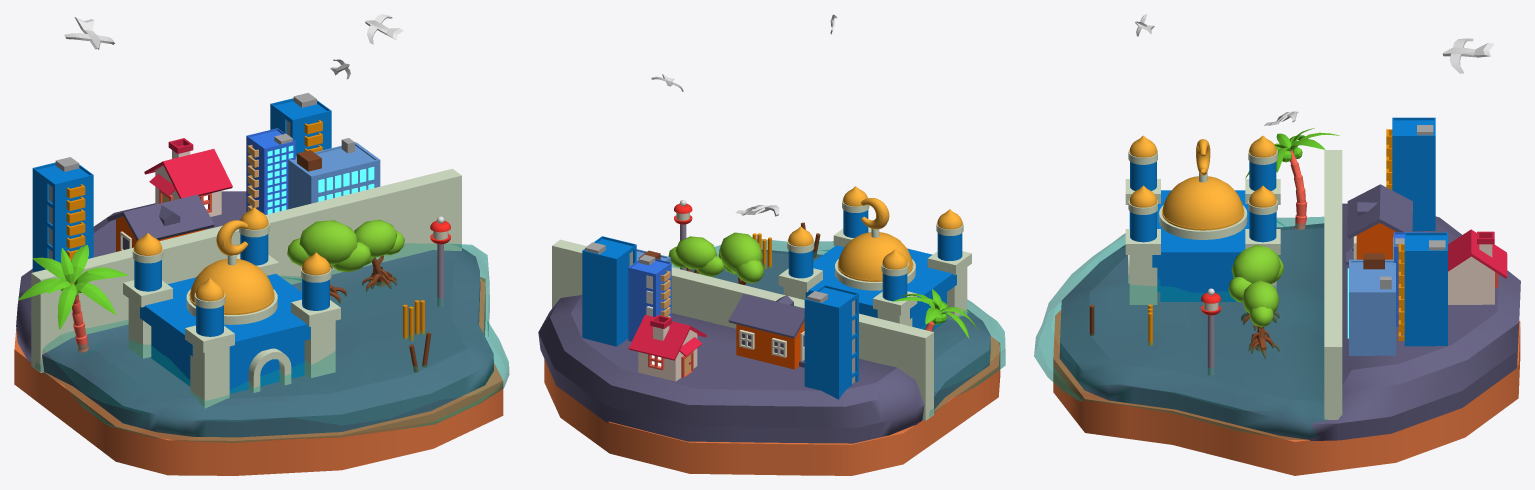
The picture shows the model from 3 angles, left to right: view 1: azimuth 30°, elevation 25°; view 2: azimuth 150°, elevation 25°; view 3: azimuth 270°, elevation 25°; orthographic projection. The views are drawn at different scales.
Visible parts, largest first — view 1: Plane.022, Plane.015, Plane.016, Plane.007, Cube.042, Cube.043, Cube.010, Cube.005, Cylinder.012, Plane.006, Cylinder.010, Cube.076 (+19 smaller); view 2: Plane.015, Plane.016, Plane.007, Plane.022, Cube.010, Cube.025, Cube.043, Cube.042, Cylinder.012, Cylinder.010, Cube.076, Cube.022 (+11 smaller); view 3: Plane.015, Plane.022, Plane.016, Cube.042, Plane.007, Cube.025, Cube.005, Cube.010, Cylinder.010, Cube.043, Cylinder.012, Cube.076 (+12 smaller).
Boxes of the visible parts, x1,y1,x2,y2 form: Plane.022: [35, 243, 509, 442]; Plane.015: [16, 191, 493, 437]; Plane.016: [14, 277, 503, 475]; Plane.007: [31, 168, 461, 372]; Cube.042: [140, 273, 310, 393]; Cube.043: [123, 254, 340, 408]; Cube.010: [32, 162, 93, 271]; Cube.005: [288, 142, 380, 209]; Cylinder.012: [134, 234, 329, 336]; Plane.006: [18, 245, 127, 329]; Cylinder.010: [189, 259, 274, 314]; Cube.076: [107, 194, 214, 240]; Plane.015: [538, 249, 990, 443]; Plane.016: [544, 336, 1000, 475]; Plane.007: [552, 239, 933, 420]; Plane.022: [671, 239, 1005, 418]; Cube.010: [804, 285, 858, 399]; Cube.025: [582, 236, 636, 346]; Cube.043: [778, 228, 971, 326]; Cube.042: [805, 245, 956, 330]; Cylinder.012: [788, 210, 962, 301]; Cylinder.010: [837, 232, 913, 281]; Cube.076: [728, 294, 804, 338]; Cube.022: [628, 258, 671, 341]; Plane.015: [1059, 203, 1520, 440]; Plane.022: [1034, 216, 1326, 439]; Plane.016: [1053, 310, 1520, 475]; Cube.042: [1129, 190, 1276, 301]; Plane.007: [1324, 150, 1342, 419]; Cube.025: [1404, 232, 1447, 346]; Cube.005: [1349, 259, 1395, 355]; Cube.010: [1392, 117, 1435, 231]; Cylinder.010: [1162, 176, 1244, 230]; Cube.043: [1125, 179, 1280, 304]; Cylinder.012: [1130, 161, 1276, 242]; Cube.076: [1347, 184, 1412, 238].
Size of the model in its own units: 0.4427 by 0.3368 by 0.4192.
